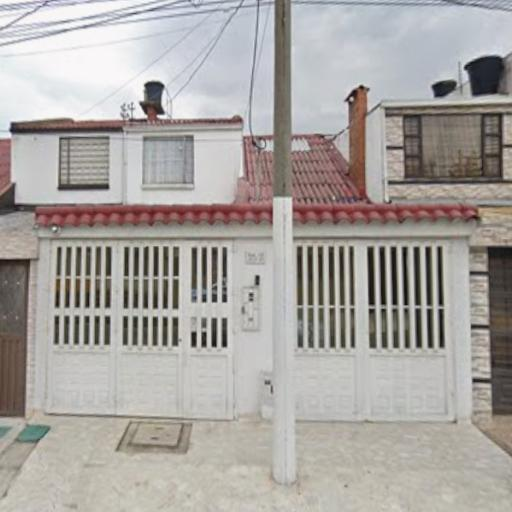poste: (266, 4, 308, 494)
